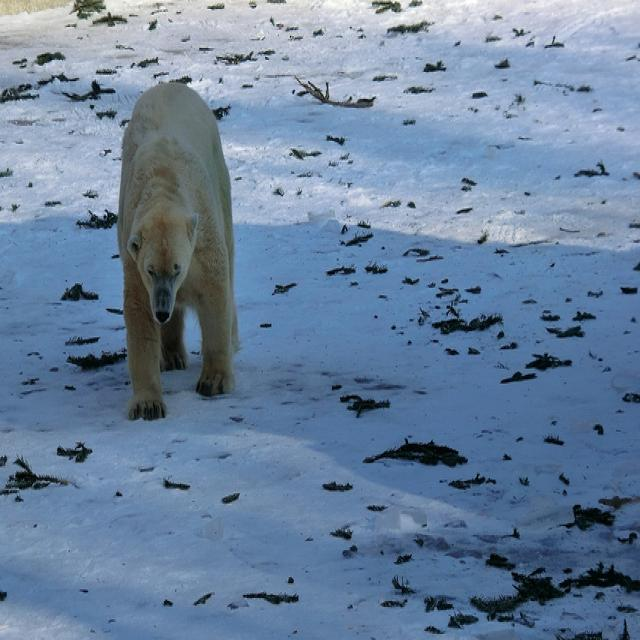Bear: (118, 68, 243, 420)
